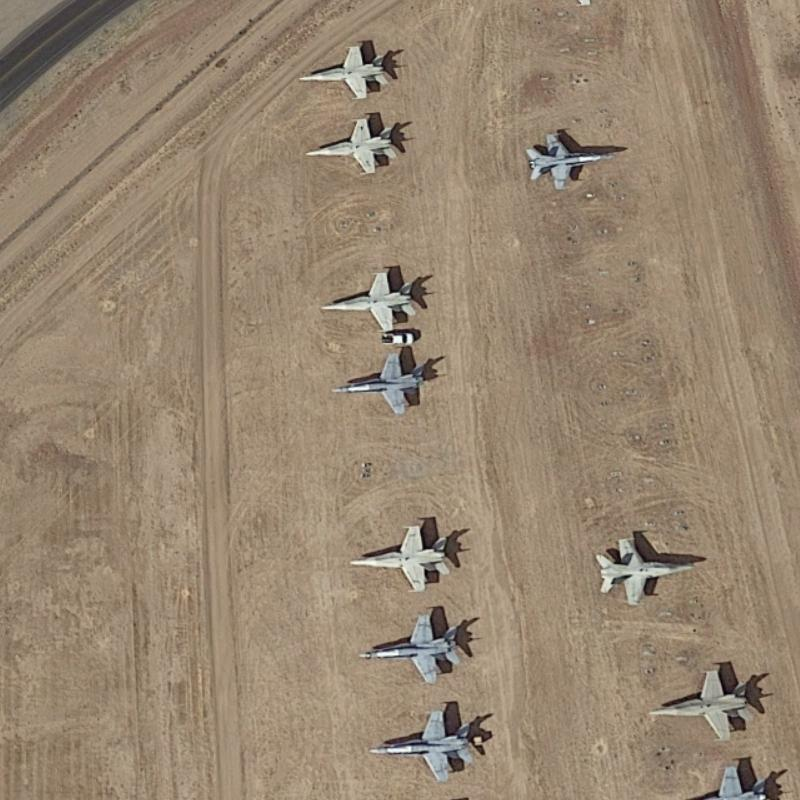A16: (366, 699, 493, 788), (645, 657, 769, 745), (354, 606, 480, 688), (586, 524, 703, 604), (345, 517, 468, 593), (318, 265, 439, 338), (308, 105, 408, 176), (333, 346, 436, 414), (523, 124, 623, 193), (292, 37, 398, 99)
